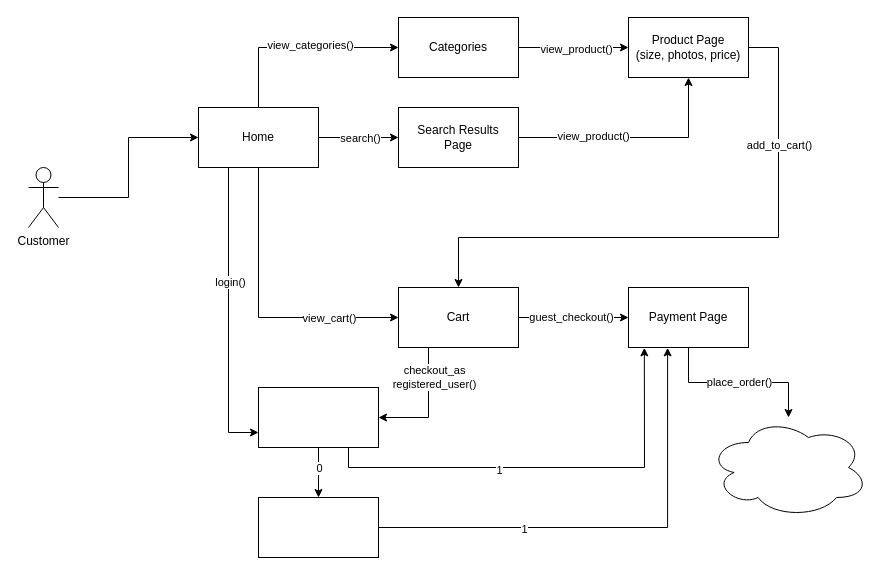
This 886x575 diagram has some shape labels left out. The shapes that lost their labels are listed below. From the top down, each one's centre as x and y in pixels, then its label:
the point at 318,417: Login
the point at 788,467: Payment processing service (e.g. Stripe)
the point at 318,527: Sign In/Register
